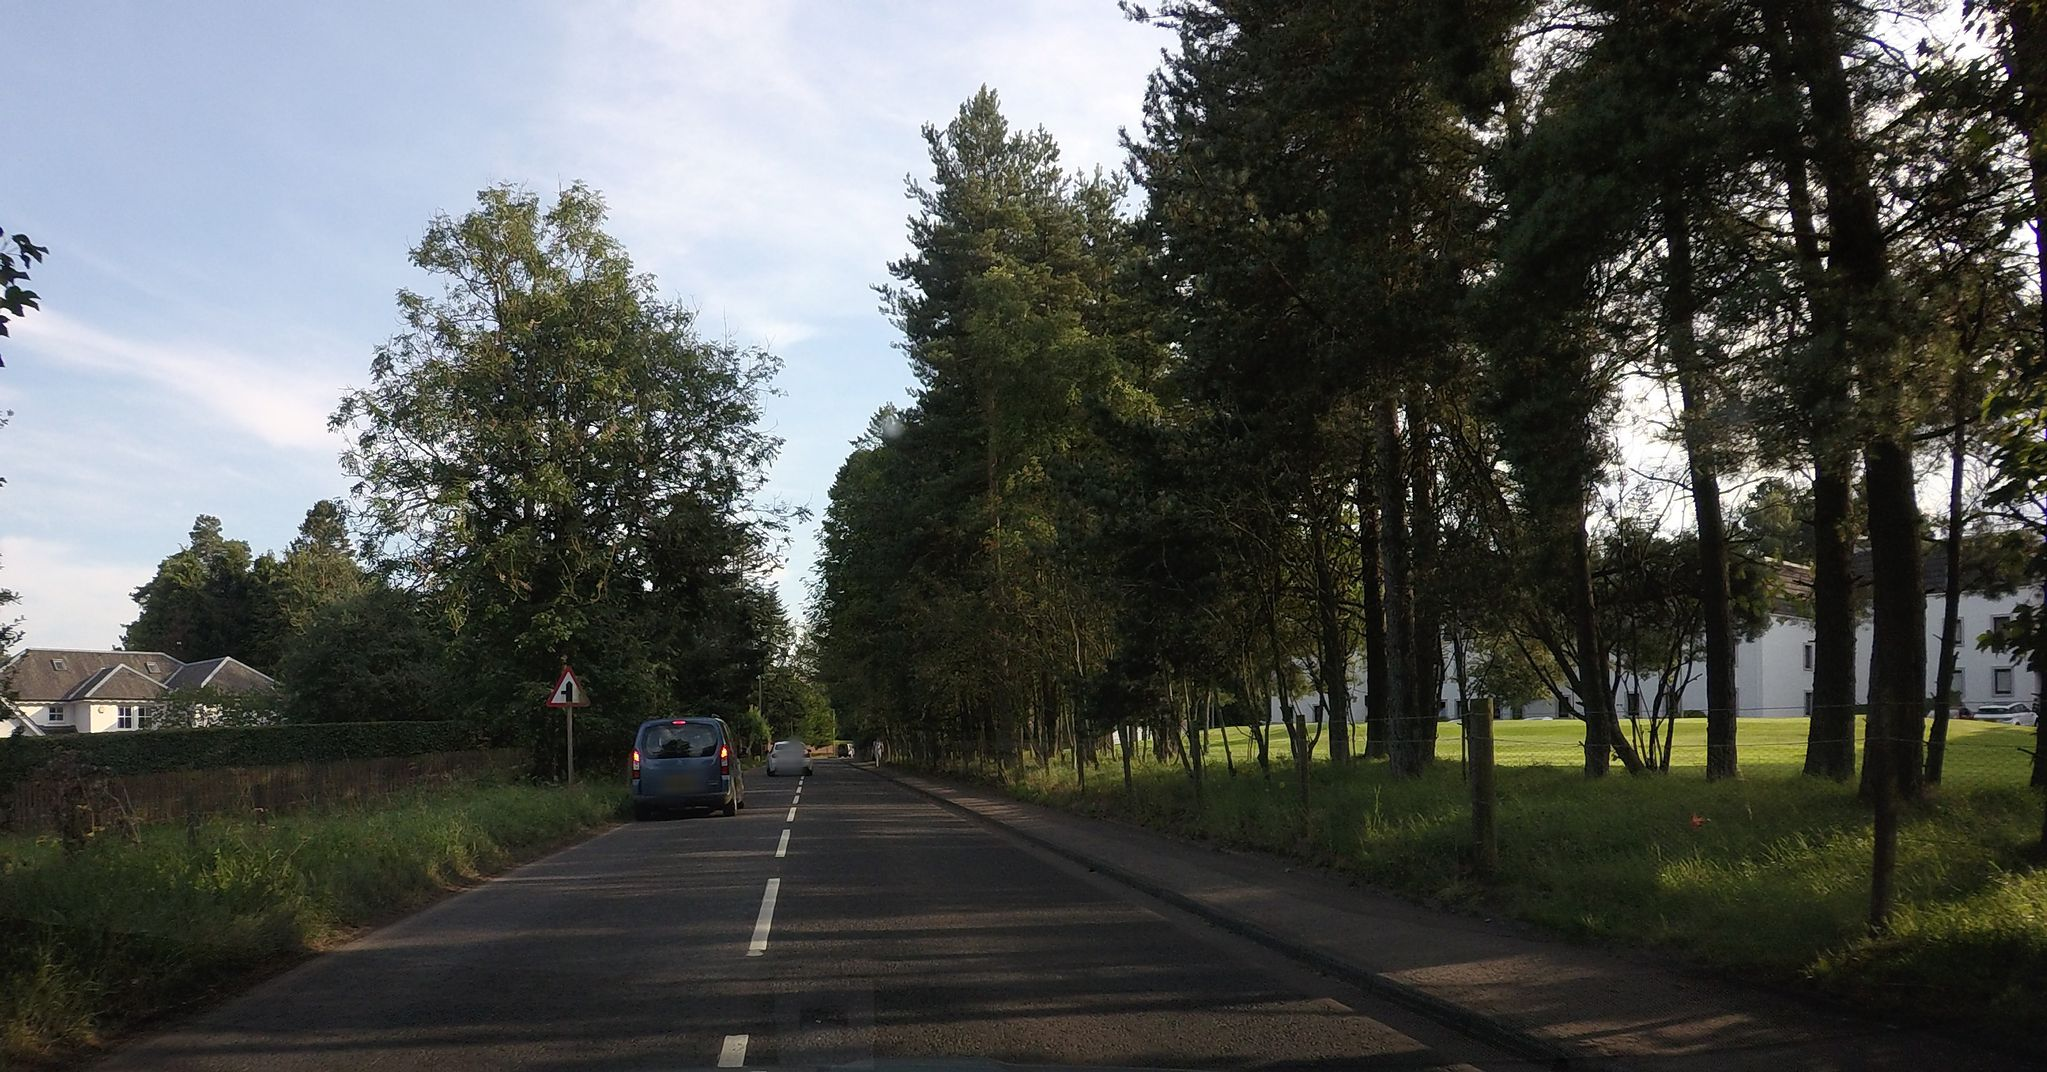car: (630, 715, 745, 813), (768, 740, 814, 776), (837, 742, 854, 757)
